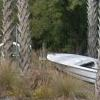Boat: (44, 46, 98, 83)
